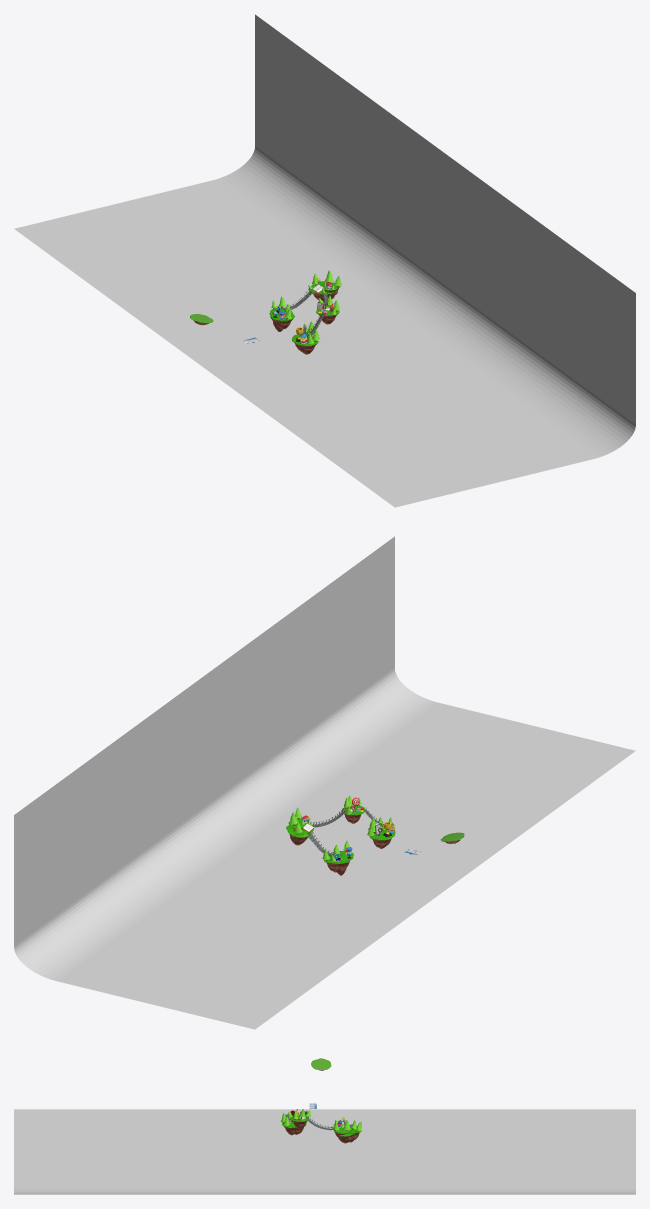
File: islas-transformed.glb
The picture shows the model from 3 angles, top to bottom: view 1: azimuth 30°, elevation 25°; view 2: azimuth 150°, elevation 25°; view 3: azimuth 270°, elevation 25°; orthographic projection. The views are drawn at different scales.
Visible parts, largest first — view 1: studio, SM_FloatingIslandA, SM_FloatingIslandA10; view 2: studio, SM_FloatingIslandA, SM_FloatingIslandA10; view 3: studio, SM_FloatingIslandA, SM_FloatingIslandA10.
Part boxes in pixels (<box>): studio: <box>14,14,635,507</box>; SM_FloatingIslandA: <box>269,270,341,346</box>; SM_FloatingIslandA10: <box>190,282,338,354</box>; studio: <box>14,536,635,1029</box>; SM_FloatingIslandA: <box>286,795,395,864</box>; SM_FloatingIslandA10: <box>289,805,464,875</box>; studio: <box>14,1109,635,1194</box>; SM_FloatingIslandA: <box>281,1109,361,1136</box>; SM_FloatingIslandA10: <box>283,1058,359,1143</box>.
Bounding box in the file's own units: 93.73 × 54.29 × 241.
Materials: 12 (12 with a texture image).
